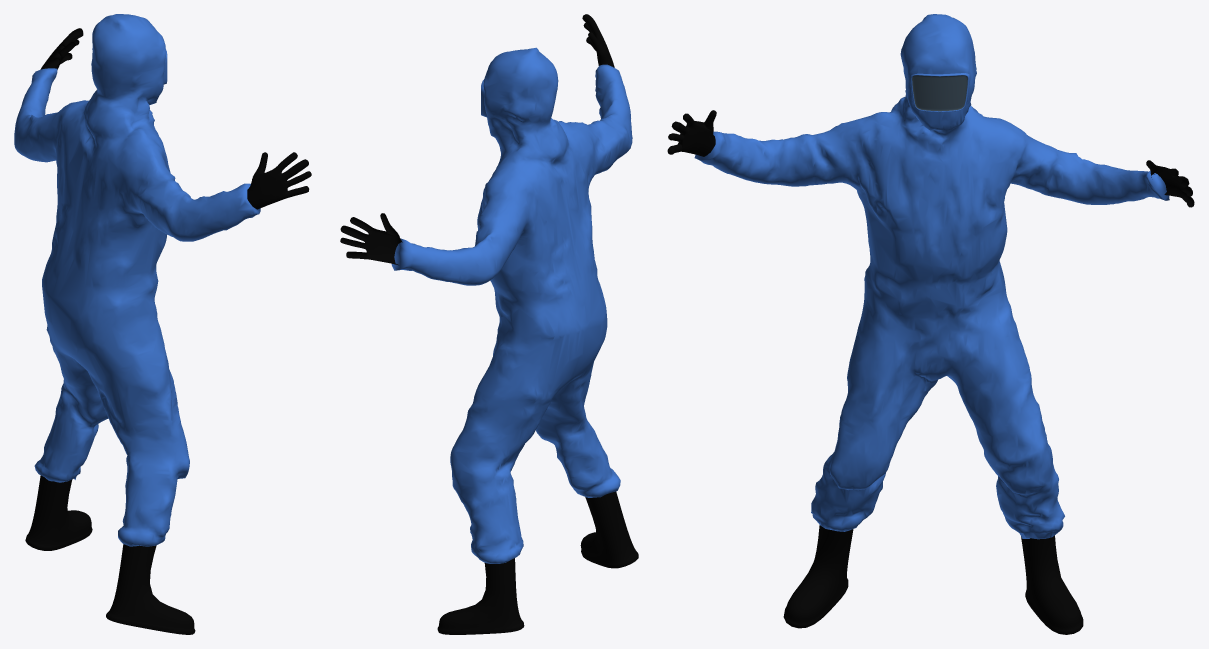
Rendered from engineer_blue.glb.
3 renders of one model, left to right at view 1: azimuth 30°, elevation 25°; view 2: azimuth 150°, elevation 25°; view 3: azimuth 270°, elevation 25°, orthographic. The views are drawn at different scales.
Visible parts, largest first — view 1: gasmask soldier scan 1 obj.010; view 2: gasmask soldier scan 1 obj.010; view 3: gasmask soldier scan 1 obj.010.
Part boxes in pixels (left/top/right/bottom): gasmask soldier scan 1 obj.010: left=14, top=14, right=311, bottom=634; gasmask soldier scan 1 obj.010: left=340, top=14, right=638, bottom=634; gasmask soldier scan 1 obj.010: left=667, top=14, right=1194, bottom=634.
Bounding box in the file's own units: 0.4962 × 1.89 × 1.48.
